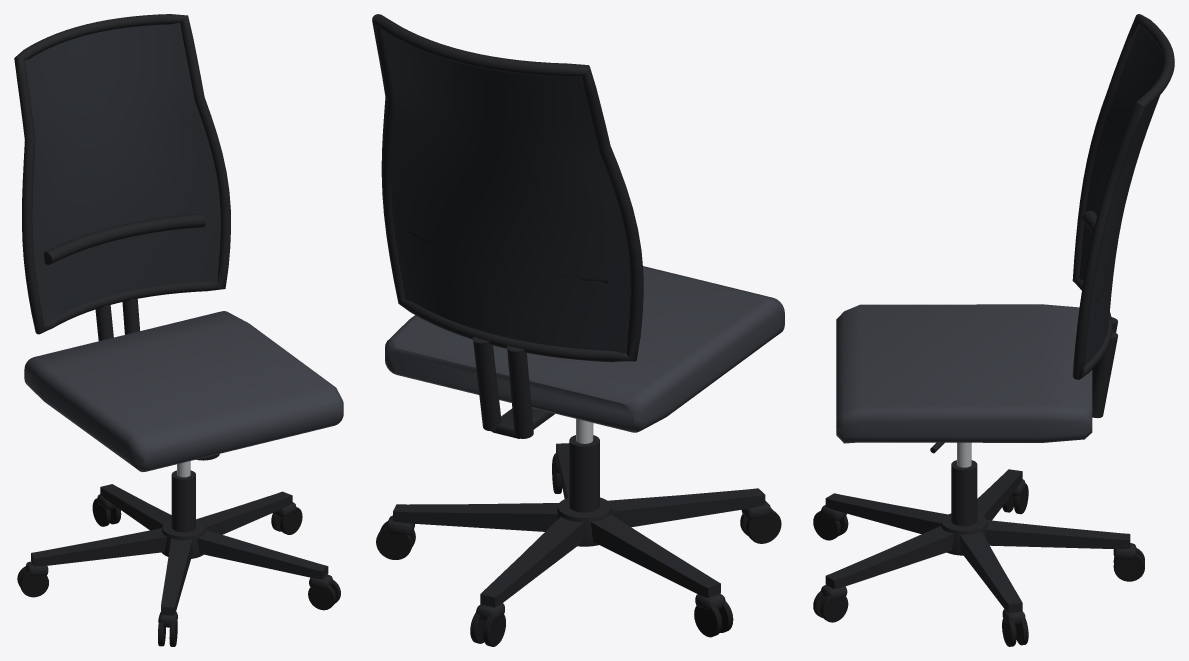
Rendered from office-task-chair-with-mesh-back-armless.glb.
The picture shows the model from 3 angles, left to right: view 1: azimuth 30°, elevation 25°; view 2: azimuth 150°, elevation 25°; view 3: azimuth 270°, elevation 25°; orthographic projection. The views are drawn at different scales.
Parts seen in each view (by area): view 1: Mesh back panel, Seat cushion, Back frame, lumbar support and back posts, Five-star base, Caster wheels (60 mm), Column sleeve, Caster housings; view 2: Mesh back panel, Seat cushion, Five-star base, Back frame, lumbar support and back posts, Caster wheels (60 mm), Column sleeve, Caster housings, Tilt mechanism, spine and levers; view 3: Seat cushion, Five-star base, Mesh back panel, Back frame, lumbar support and back posts, Caster wheels (60 mm), Column sleeve, Caster housings.
Boxes of the visible parts, x1,y1,x2,y2 form: Mesh back panel: (24,22,220,324); Seat cushion: (24,311,343,472); Back frame, lumbar support and back posts: (14,14,230,340); Five-star base: (31,484,328,615); Caster wheels (60 mm): (17,498,340,646); Column sleeve: (171,470,195,532); Caster housings: (25,494,332,627); Mesh back panel: (382,30,630,353); Seat cushion: (385,266,784,432); Five-star base: (393,443,765,607); Back frame, lumbar support and back posts: (372,14,643,438); Caster wheels (60 mm): (376,460,781,646); Column sleeve: (569,435,599,512); Caster housings: (386,453,771,620); Tilt mechanism, spine and levers: (492,408,554,438); Seat cushion: (836,304,1092,443); Five-star base: (825,469,1130,613); Mesh back panel: (1079,25,1163,366); Back frame, lumbar support and back posts: (1072,14,1174,418); Caster wheels (60 mm): (813,483,1144,646); Column sleeve: (951,460,977,526); Caster housings: (821,479,1136,625).
Bounding box in the file's own units: 0.668 × 1.1 × 0.6922.
Materials: 5 (5 with a texture image).
